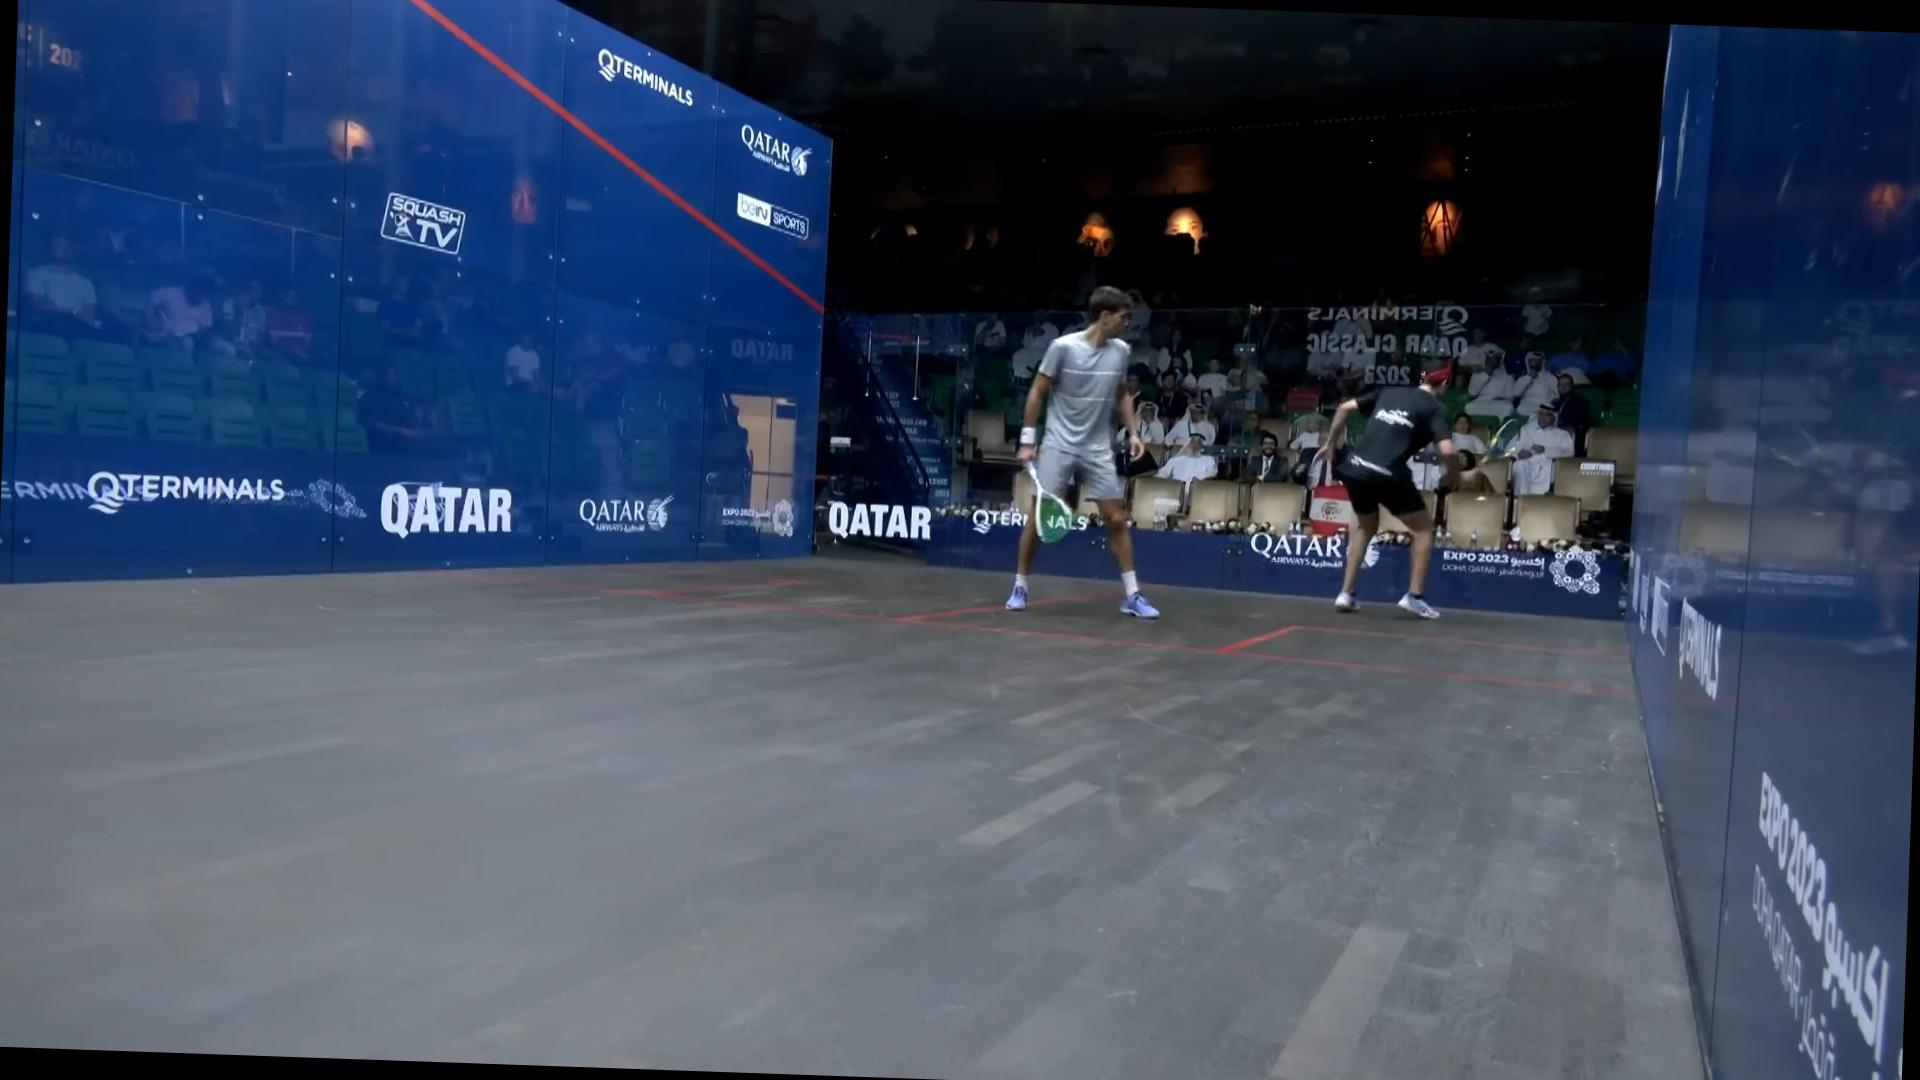Racket: (1021, 458, 1084, 549), (1472, 411, 1532, 469)
